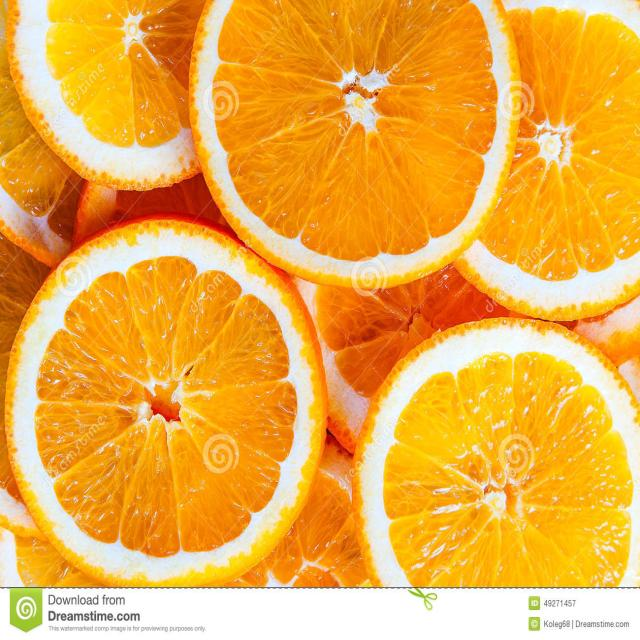Orange: (10, 212, 333, 578), (181, 2, 518, 290), (364, 324, 640, 586)
